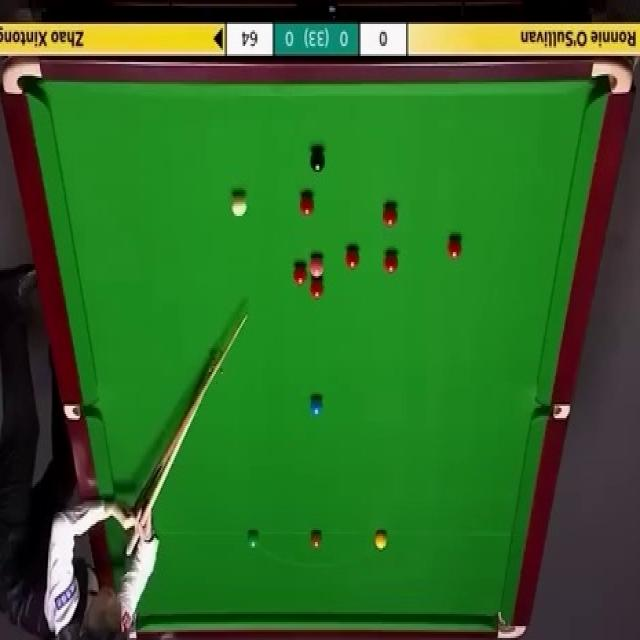pocket: (2, 61, 42, 95), (591, 64, 632, 97), (498, 613, 527, 640), (537, 400, 569, 421), (64, 400, 97, 420)
